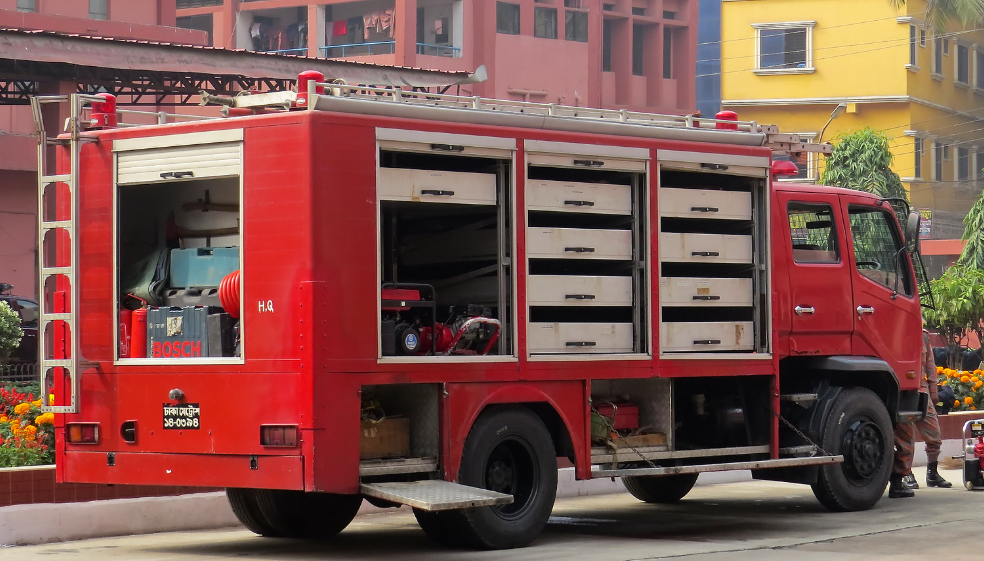Fire truck: (33, 60, 929, 540)
